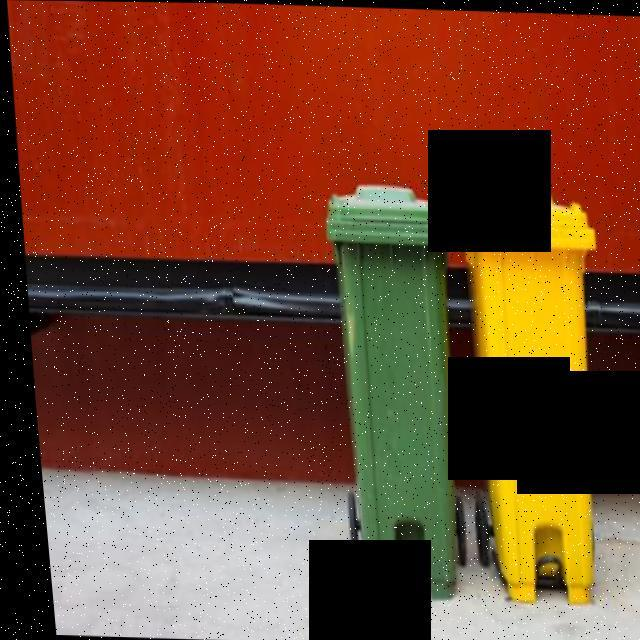bin: (435, 165, 623, 619), (296, 172, 479, 622)
